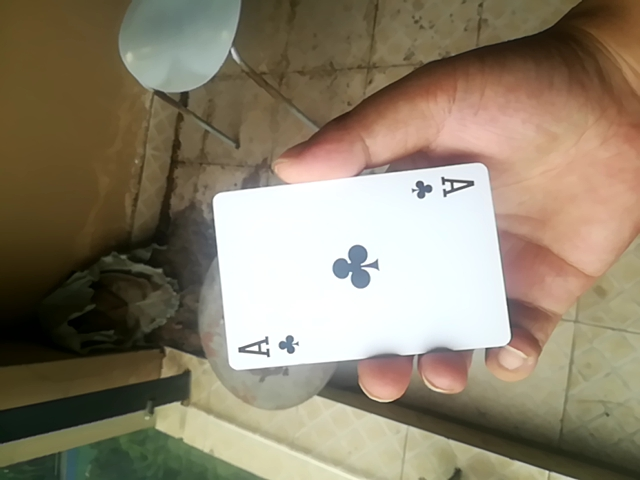mh a: (208, 161, 507, 370)
